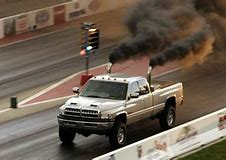smoke: (107, 1, 226, 62)
